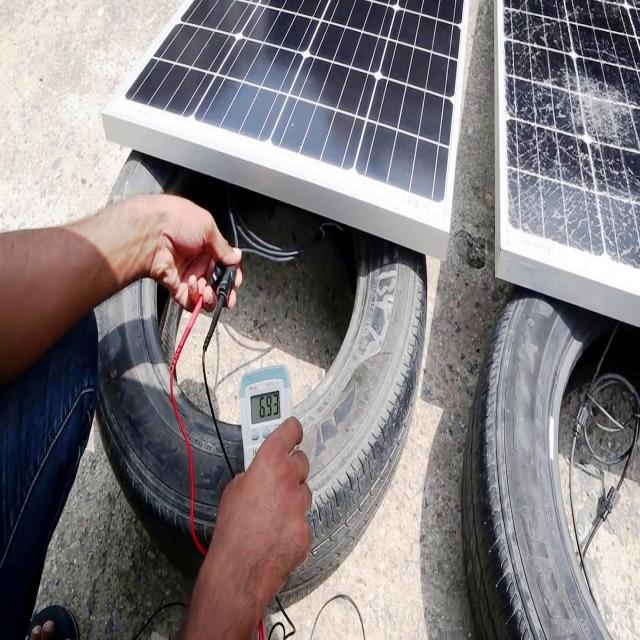faulty: (491, 0, 640, 282)
no faulty: (122, 2, 476, 222)
